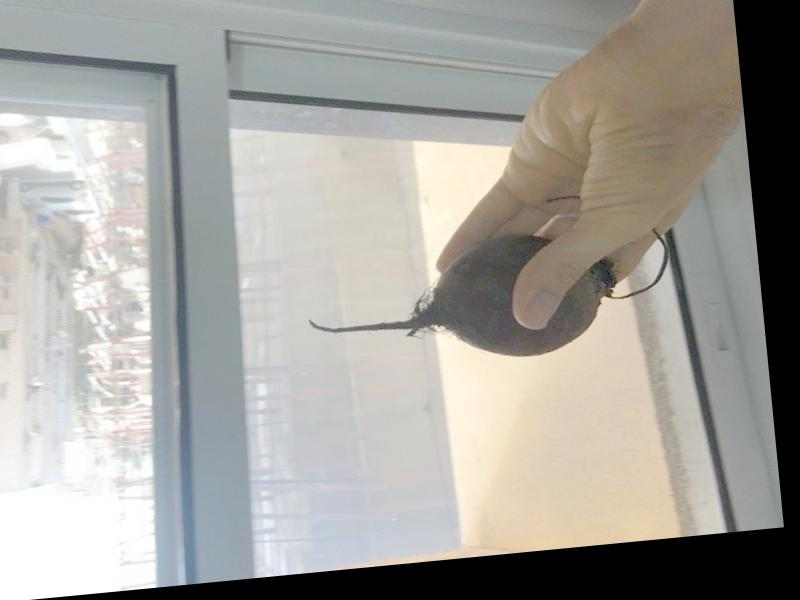Beet: (298, 185, 676, 377)
